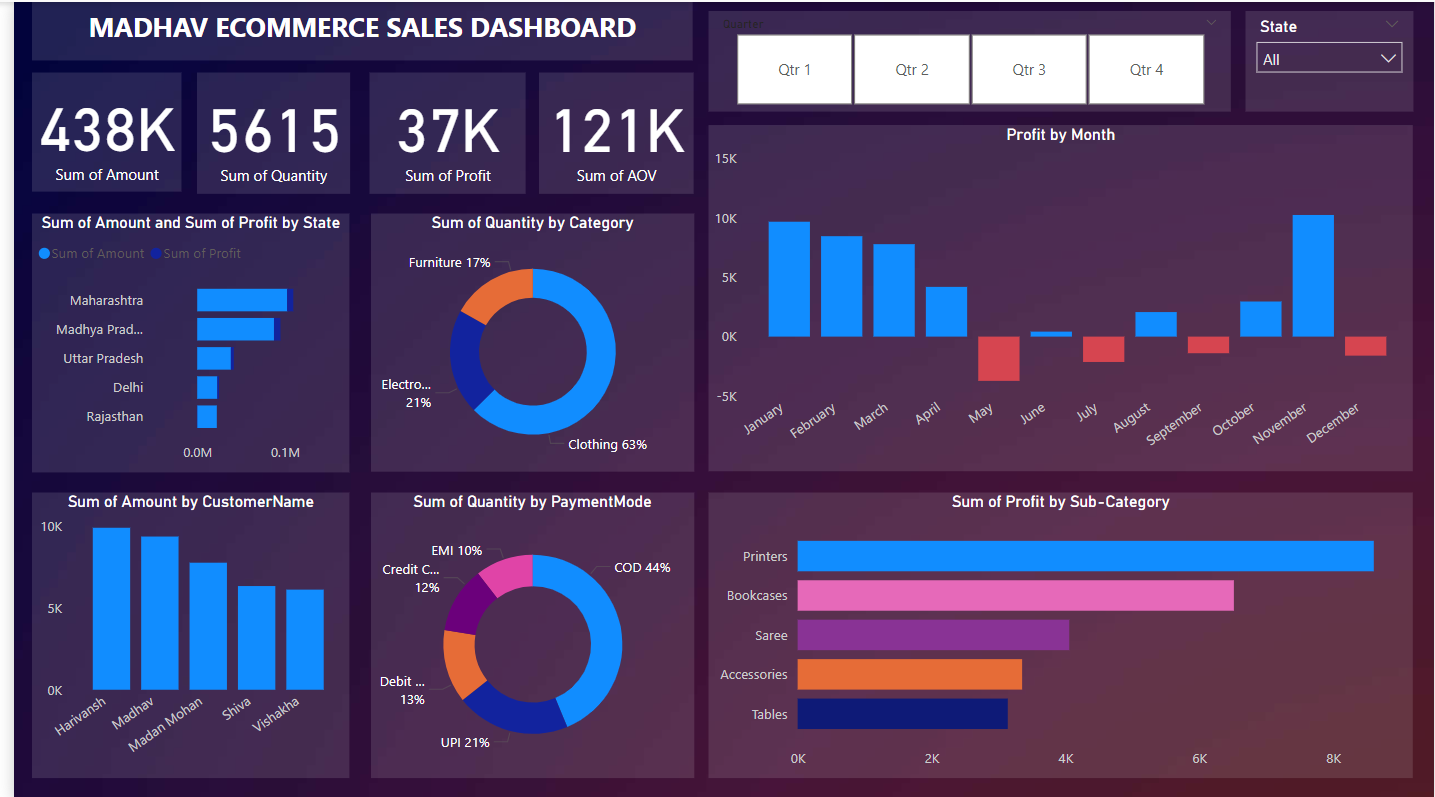

This screenshot's page, from the dashboard's own definition file:
{"tool":"powerbi","page":{"name":"Page 1","canvas":[1280,720],"ordinal":0},"visuals":[{"type":"columnChart","title":"Profit by Month","fields":{"Category":["Orders.Order Date.Variation.Date Hierarchy.Month"],"Y":["Details.Profit"]},"box":[625.5,111.5,635,311.8],"z":0},{"type":"textbox","box":[16.7,0,595.1,53],"z":1000},{"type":"barChart","fields":{"Category":["Details.Sub-Category"],"Y":["Details.Profit"]},"box":[625.5,442.2,635,257],"z":2000},{"type":"donutChart","fields":{"Category":["Details.Category"],"Y":["Details.Quantity"]},"box":[321.3,190.9,291,232.4],"z":3000},{"type":"donutChart","fields":{"Category":["Details.PaymentMode"],"Y":["Details.Quantity"]},"box":[321.3,442.2,291,257],"z":4000},{"type":"card","fields":{"Values":["Details.Amount"]},"box":[16.7,63.6,134.8,107.5],"z":5000},{"type":"card","fields":{"Values":["Details.Quantity"]},"box":[165,63.6,137.8,109],"z":6000},{"type":"card","fields":{"Values":["Details.Profit"]},"box":[321,63.6,140.8,109],"z":7000},{"type":"card","fields":{"Values":["Details.AOV"]},"box":[472.4,63.6,139.3,109],"z":8000},{"type":"barChart","fields":{"Category":["Orders.State","Details.Sub-Category"],"Y":["Details.Amount","Details.Profit"]},"box":[16.7,190.8,286.2,233.2],"z":9000},{"type":"columnChart","fields":{"Y":["Details.Amount"],"Category":["Orders.CustomerName"]},"box":[16.7,442.1,286.2,257.4],"z":10000},{"type":"slicer","fields":{"Values":["Orders.Order Date.Variation.Date Hierarchy.Quarter"]},"box":[625.5,7.6,470.6,90.7],"z":11000},{"type":"slicer","fields":{"Values":["Orders.State"]},"box":[1109.3,7.6,151.2,90.7],"z":12000}]}

Visuals, with their boxes in screenshot pixels (x1, y1, x2, y2), scaled from the page's 1280x720 canvas onto the 1435x797 screenshot:
"Profit by Month" columnChart: x1=701, y1=123, x2=1413, y2=469
textbox: x1=19, y1=0, x2=686, y2=59
barChart - Details.Sub-Category x Details.Profit: x1=701, y1=489, x2=1413, y2=774
donutChart - Details.Category x Details.Quantity: x1=360, y1=211, x2=686, y2=469
donutChart - Details.PaymentMode x Details.Quantity: x1=360, y1=489, x2=686, y2=774
card - Details.Amount: x1=19, y1=70, x2=170, y2=189
card - Details.Quantity: x1=185, y1=70, x2=339, y2=191
card - Details.Profit: x1=360, y1=70, x2=518, y2=191
card - Details.AOV: x1=530, y1=70, x2=686, y2=191
barChart - Orders.State x Details.Sub-Category: x1=19, y1=211, x2=340, y2=469
columnChart - Details.Amount x Orders.CustomerName: x1=19, y1=489, x2=340, y2=774
slicer - Orders.Order Date.Variation.Date Hierarchy.Quarter: x1=701, y1=8, x2=1229, y2=109
slicer - Orders.State: x1=1244, y1=8, x2=1413, y2=109
